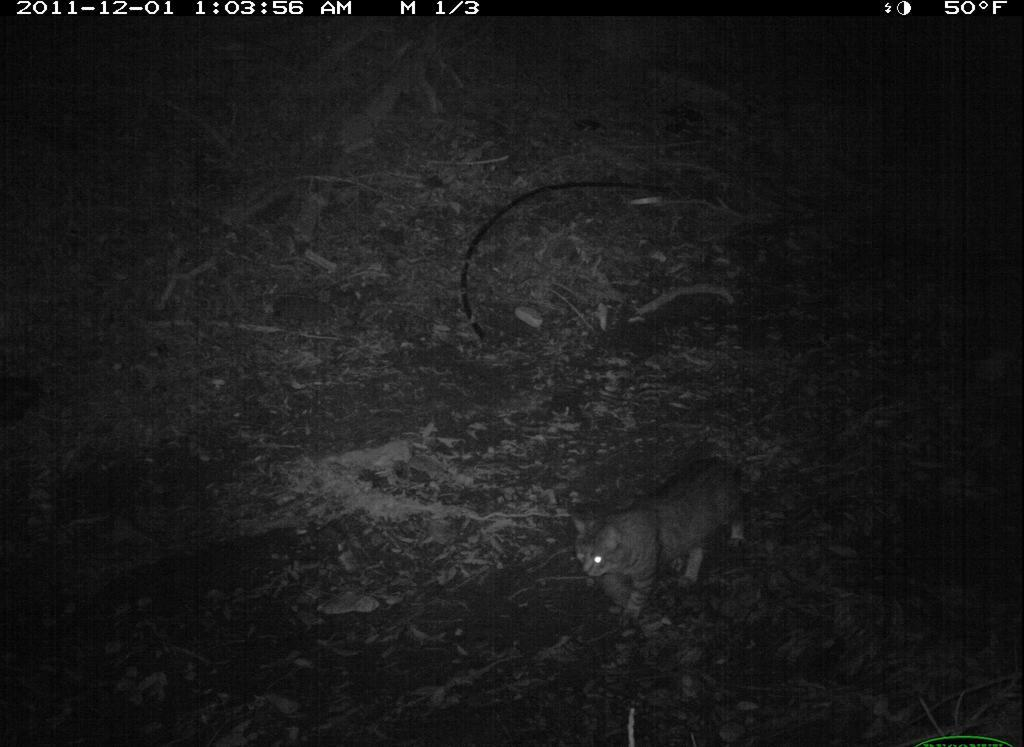cat: (556, 451, 783, 634)
